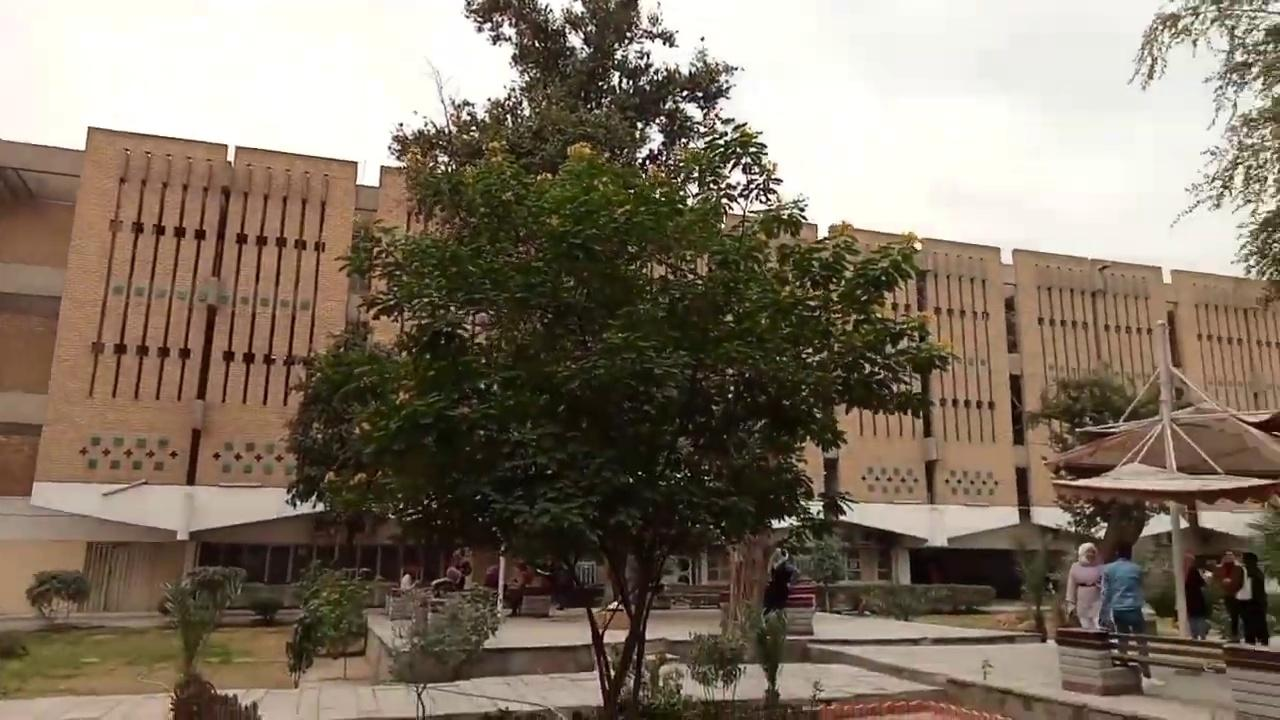person: (1098, 539, 1152, 682), (1064, 541, 1106, 629), (1210, 550, 1246, 642), (1235, 551, 1270, 645), (762, 548, 799, 625), (1183, 550, 1210, 640), (504, 559, 532, 616), (400, 570, 413, 590)
tree: (279, 124, 961, 716), (386, 0, 789, 233), (1126, 0, 1279, 303), (1024, 359, 1166, 564), (384, 578, 503, 682), (284, 561, 371, 687), (158, 563, 246, 684), (24, 567, 91, 620), (247, 591, 283, 624)
